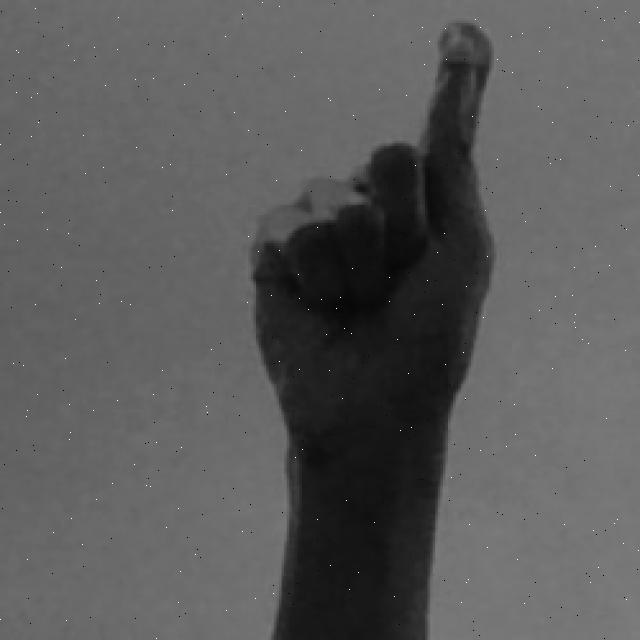T: (246, 15, 502, 640)
